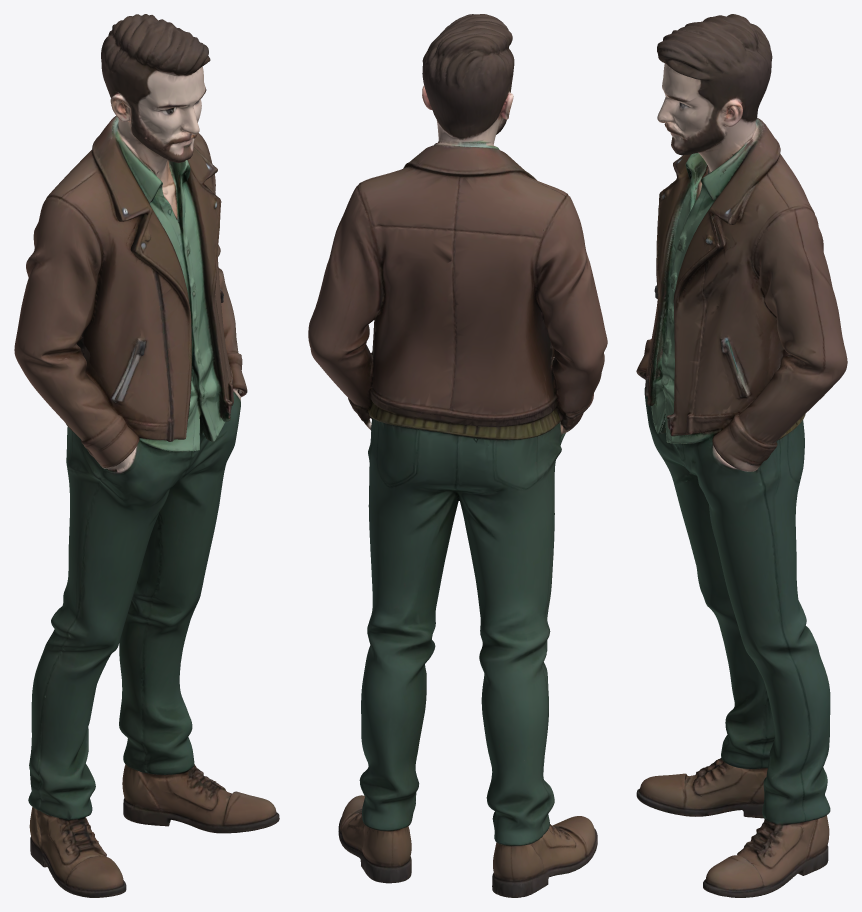
Rendered from educator.glb.
3 views of the same model, side by side, from view 1: azimuth 30°, elevation 25°; view 2: azimuth 150°, elevation 25°; view 3: azimuth 270°, elevation 25° (orthographic).
Size of the model in its own units: 0.6123 by 1.9 by 0.4428.
1 material, 1 textured.
